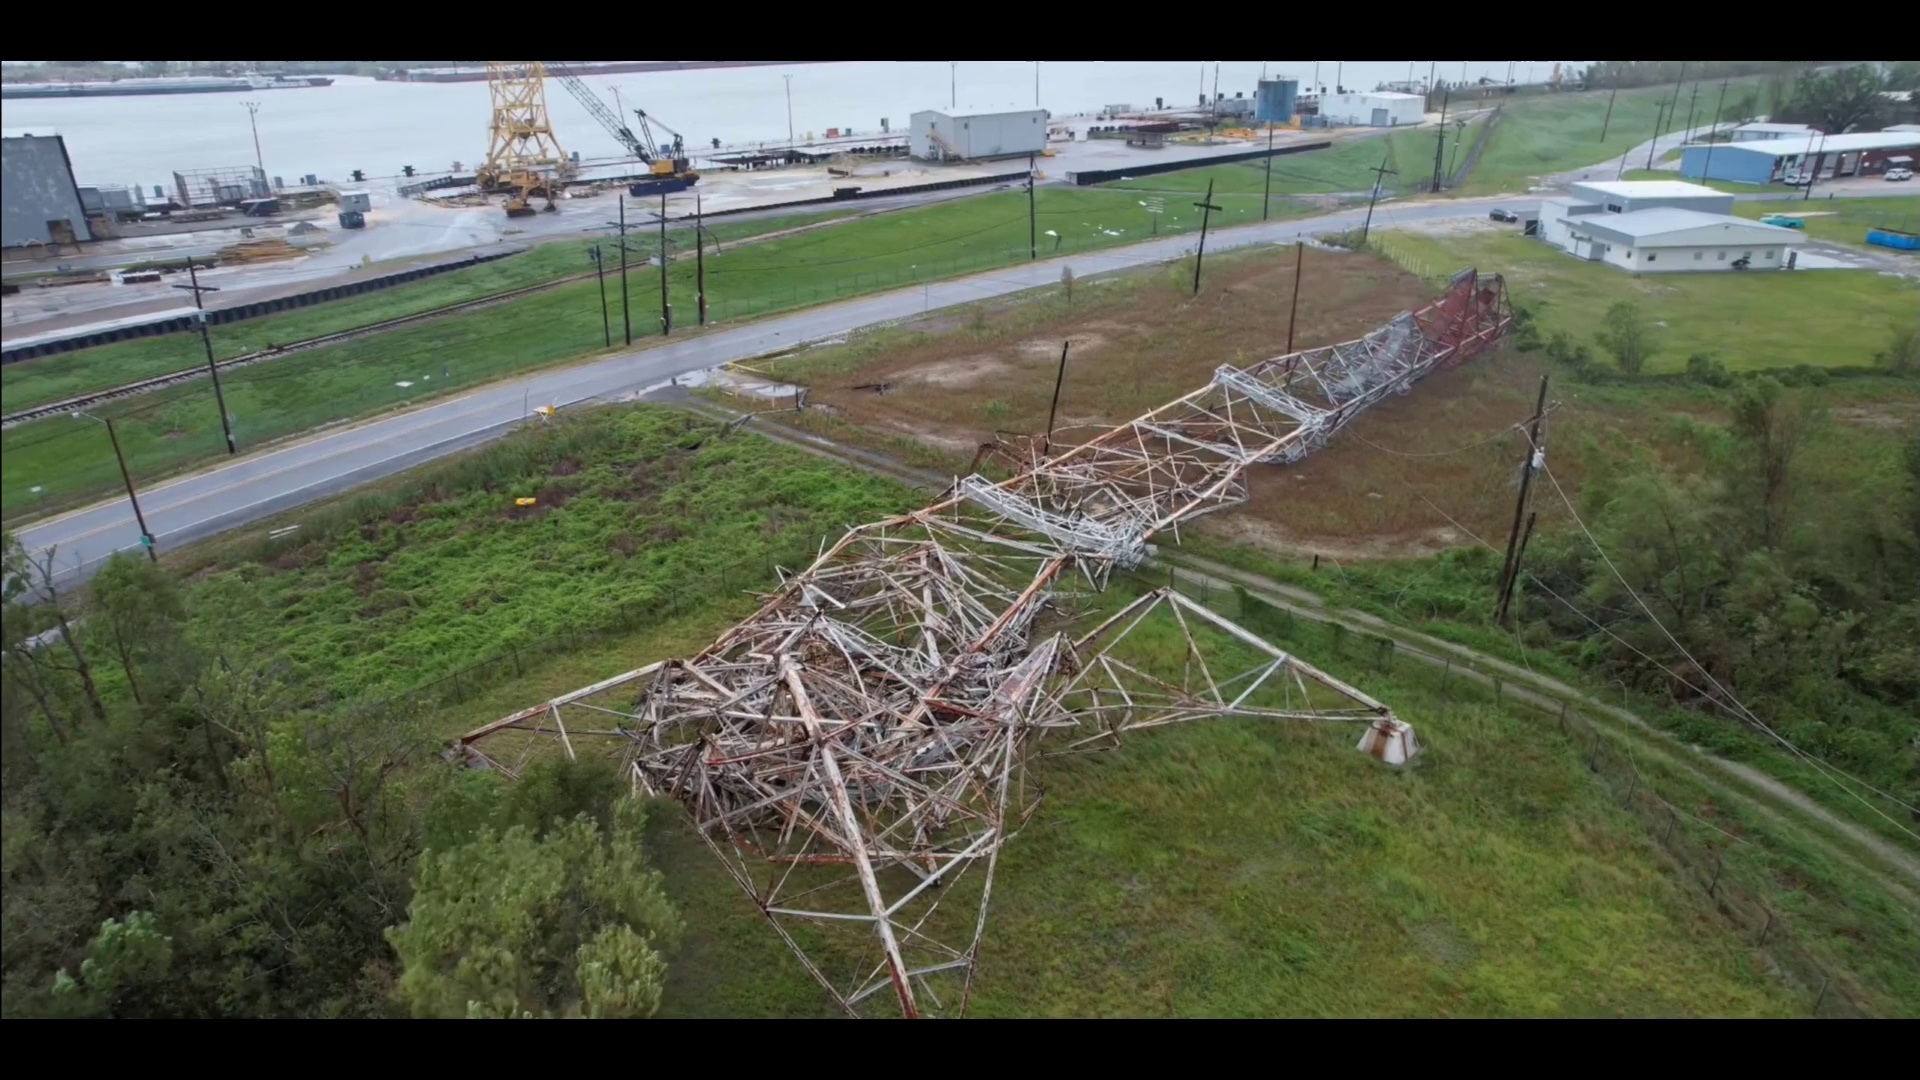tower_down: (436, 158, 1524, 1007)
